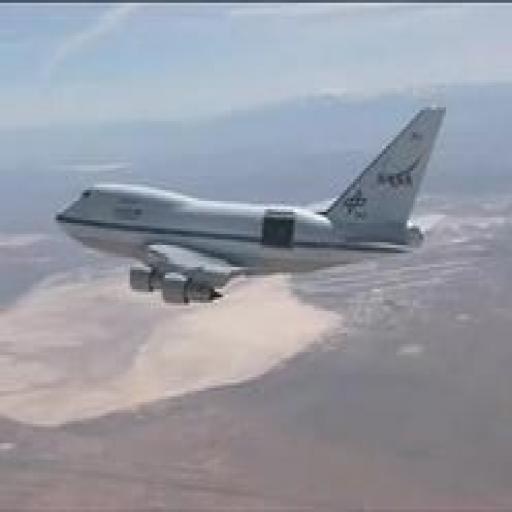aircraft: (56, 104, 448, 306)
